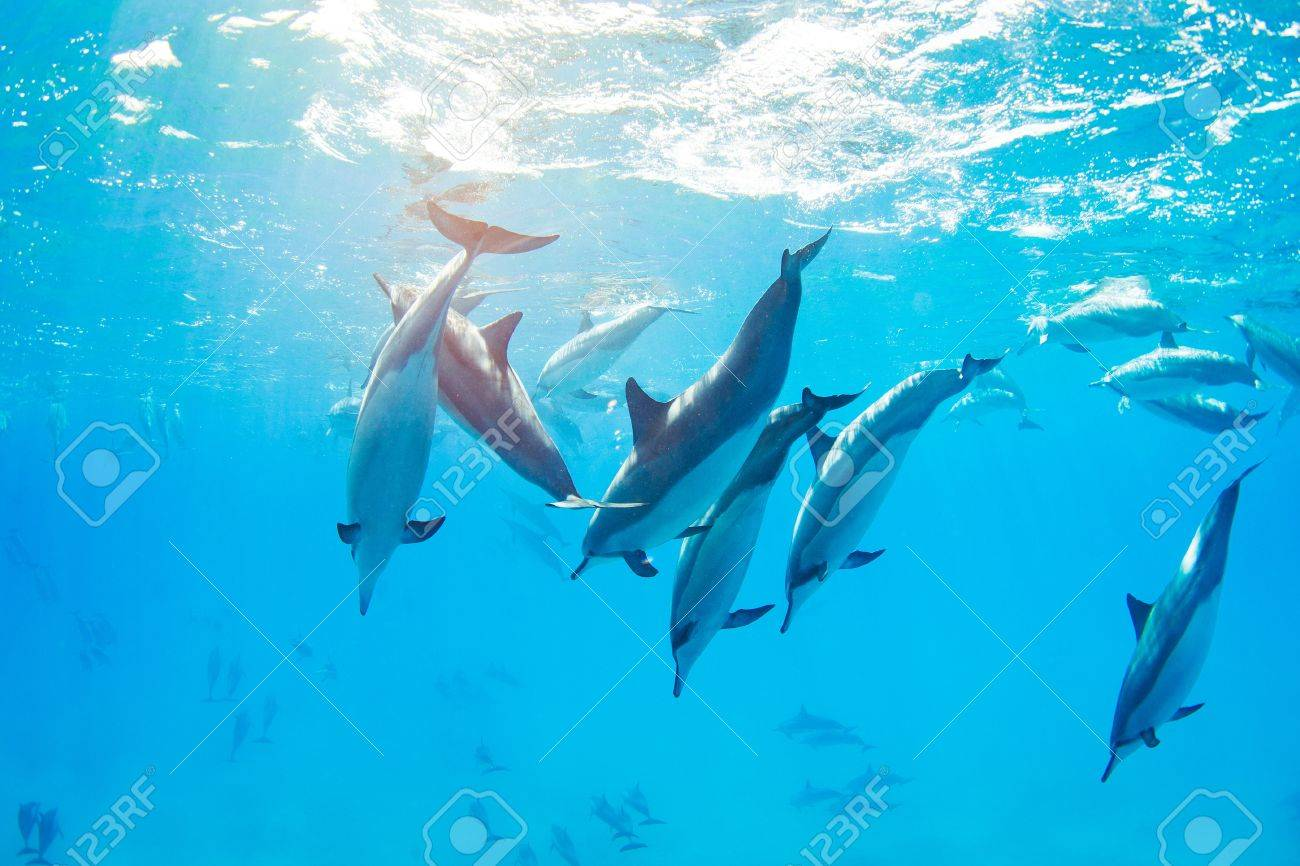dolphin: (294, 185, 547, 633), (581, 227, 817, 604), (354, 276, 622, 549), (638, 378, 849, 696), (1077, 455, 1275, 789), (775, 328, 990, 635)
